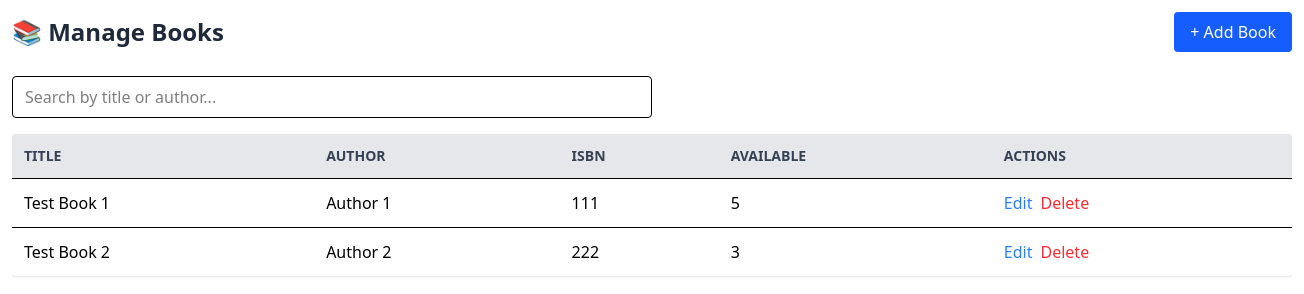
Test case: BooksAdminPage Component › filters books based on search input
Check: the text "Test Book 1" is shown, box [12,178,314,228]
In the field with placeholder "Search by title or author...": (332, 97) [12,76,652,118], type "Book 2"
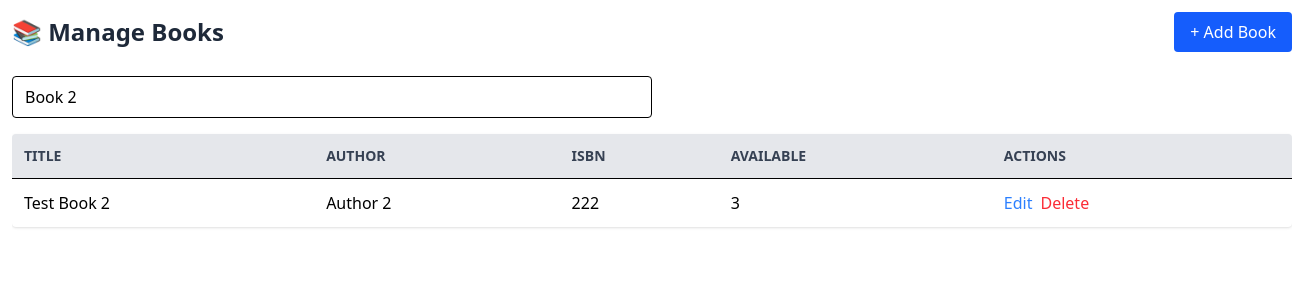
Check: the text "Test Book 2" is shown, box [12,178,314,227]
Check: the text "Test Book 1" is gone
